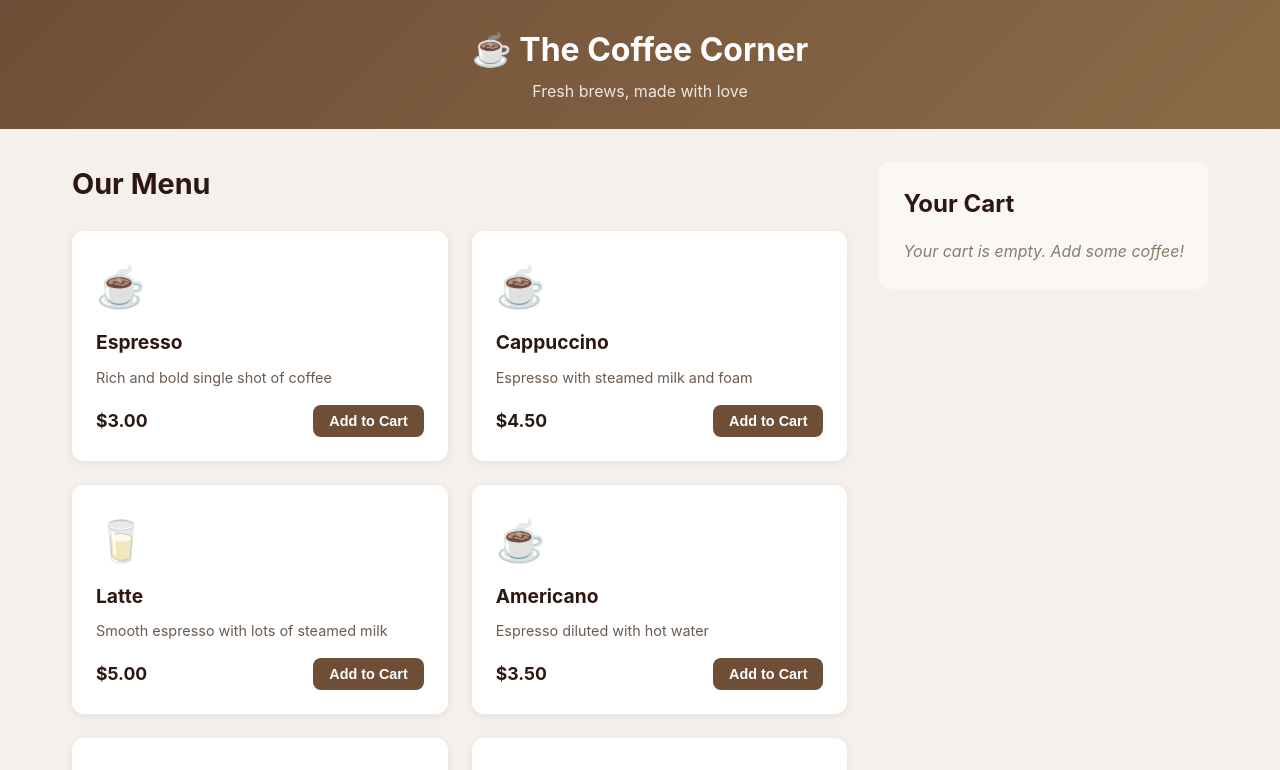
Test: Cart Flow Integration › given_item_in_cart_when_same_item_added_again_then_quantity_increments
The width and height of the screenshot is (1280, 770).
Click the button with aria-label "Add Espresso to cart".
click(369, 421)  # box [313, 405, 424, 437]
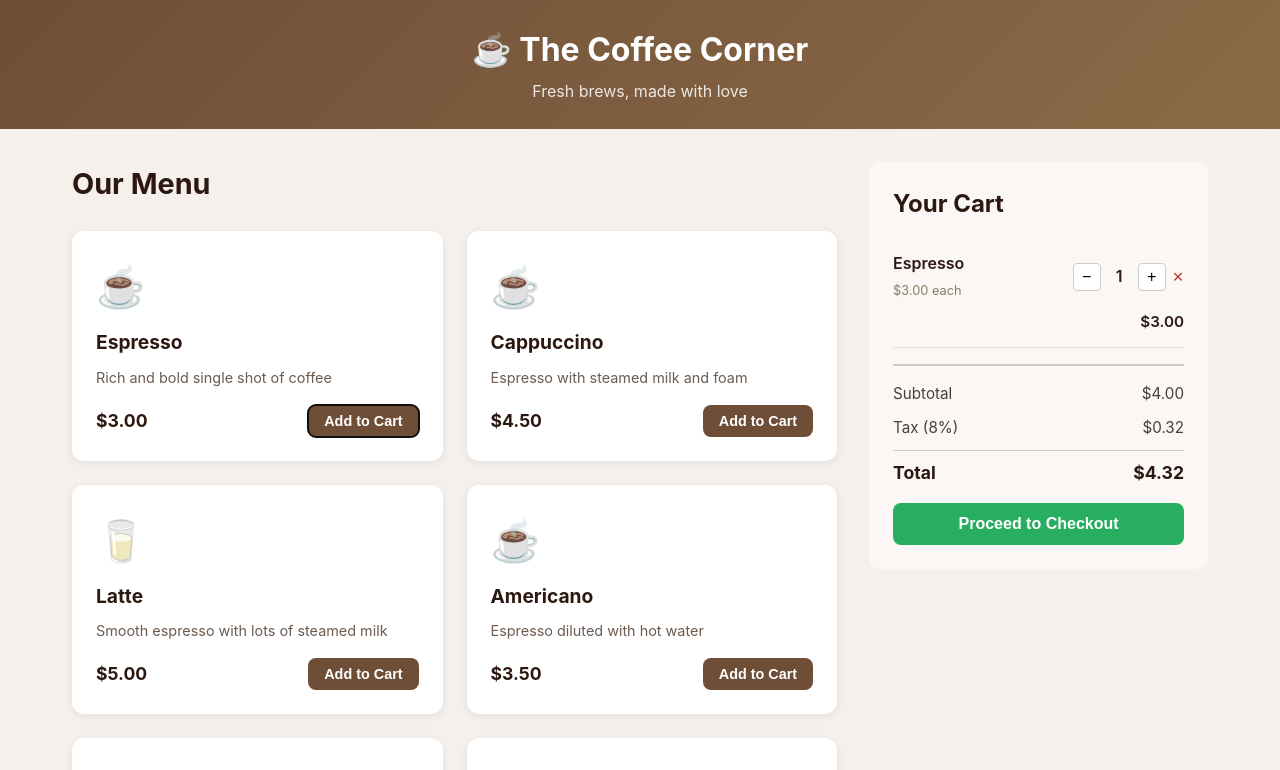
Click the button with aria-label "Add Espresso to cart".
click(363, 421)  # box [308, 405, 418, 437]
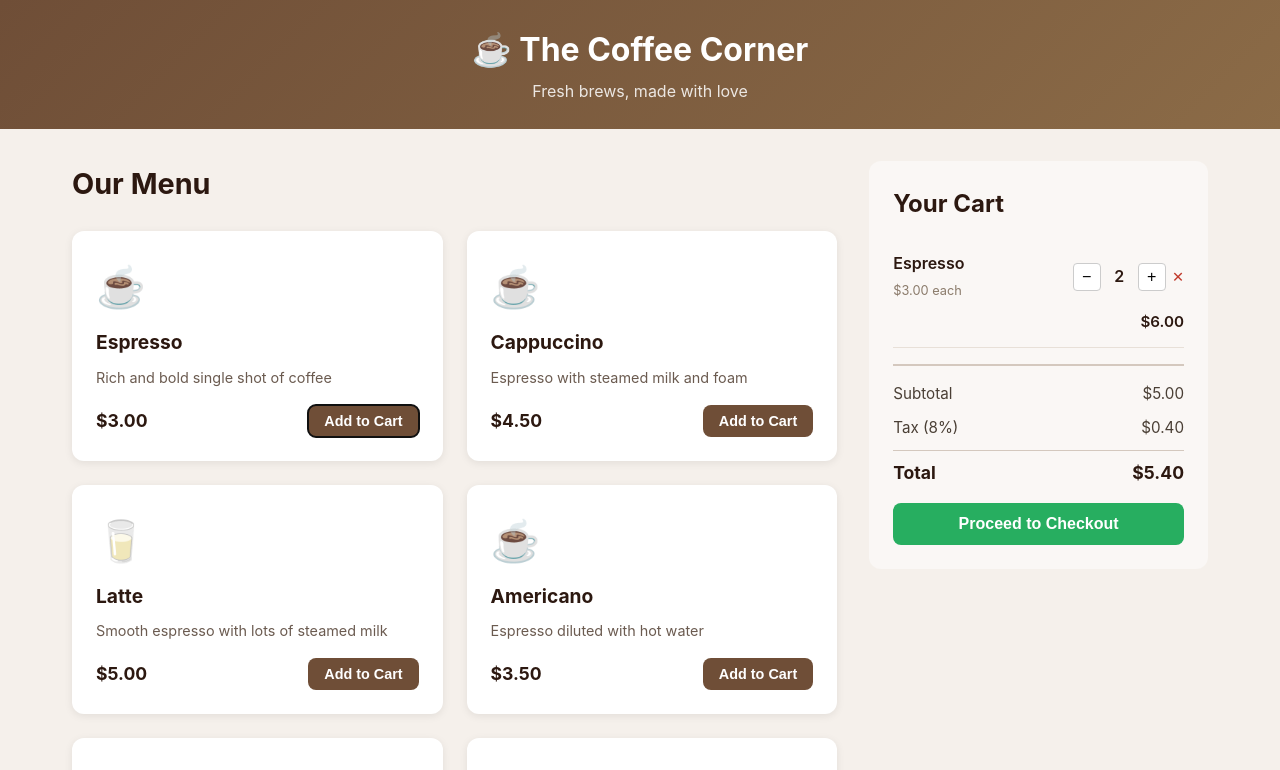
Expected: the text with test id "quantity-espresso" reads "2", [1114, 266, 1124, 286]
Expected: the text with test id "line-total-espresso" reads "$6.00", [1140, 312, 1184, 331]
